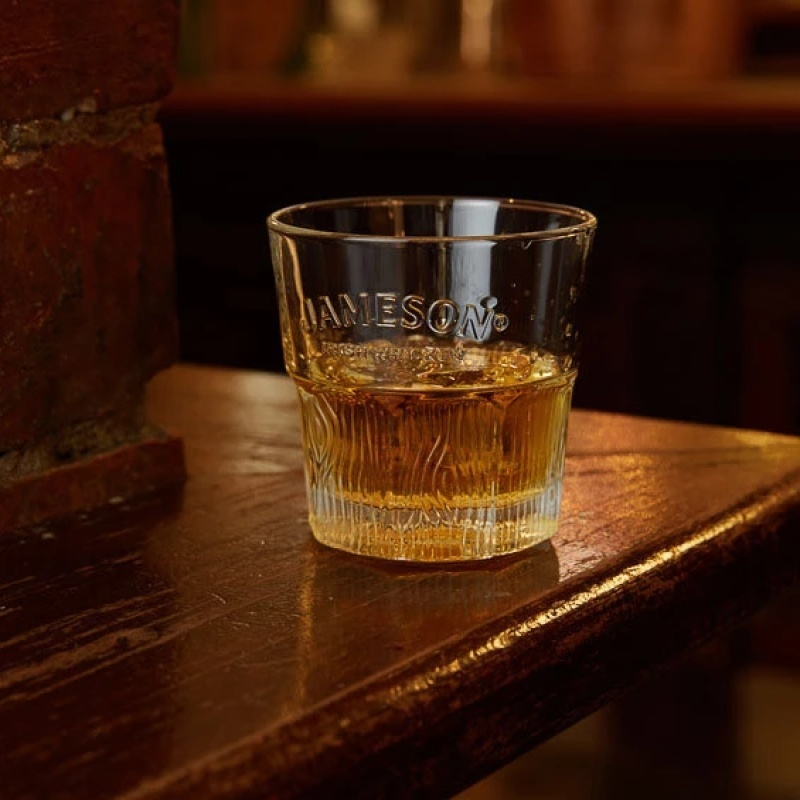whiskey: (259, 198, 594, 563)
